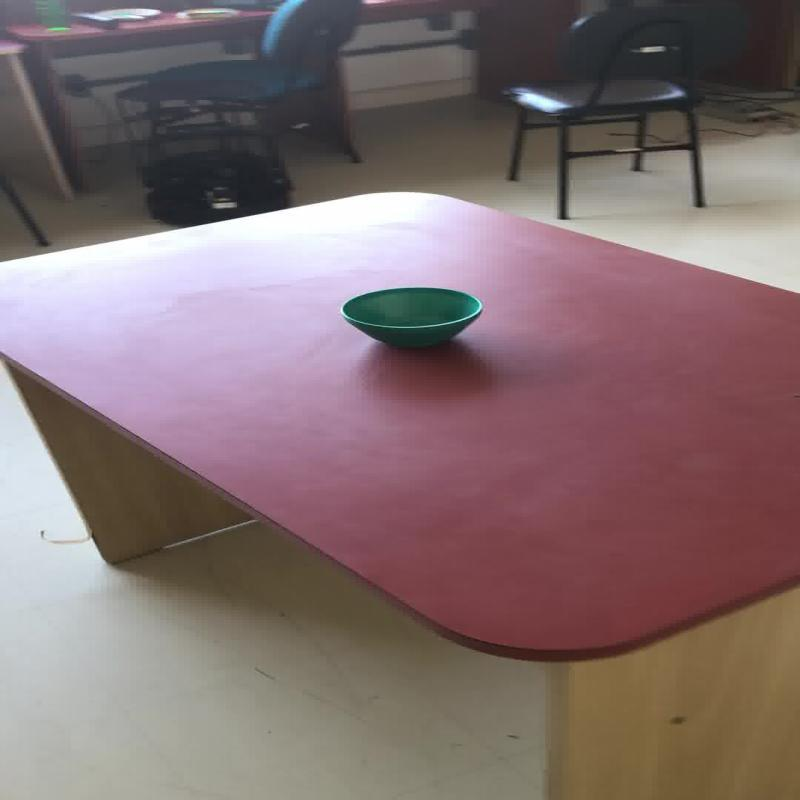bowl: (338, 285, 483, 347)
